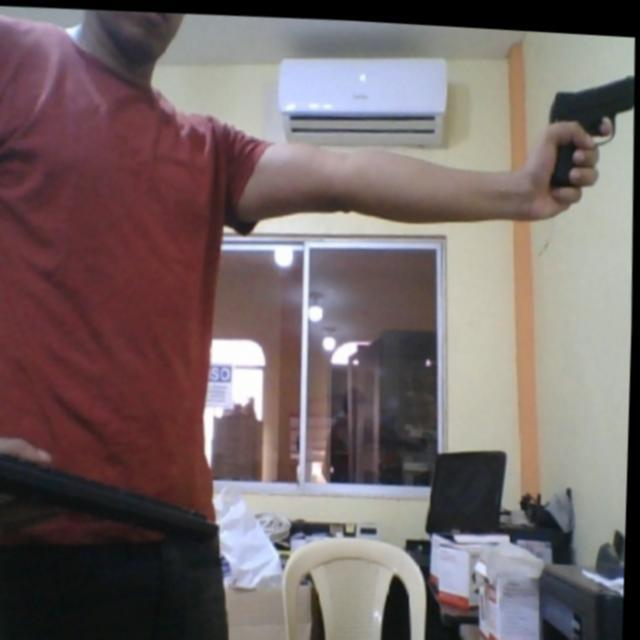weapon: (544, 60, 636, 186)
